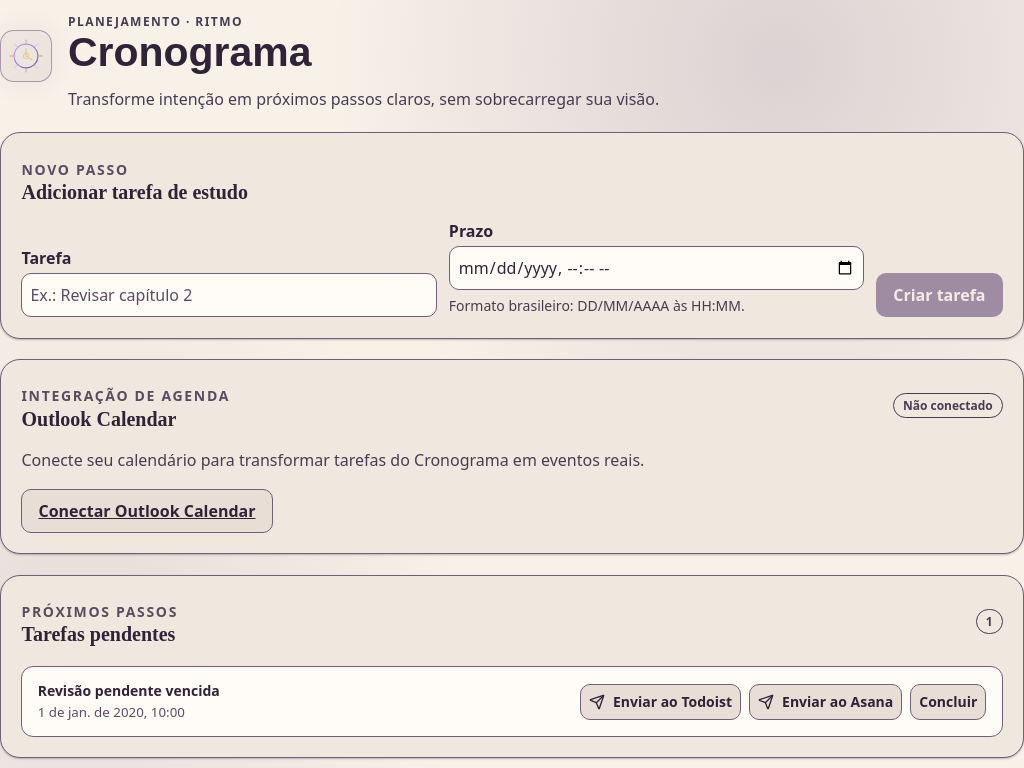
Test: StudyTaskBoard › keeps an overdue task visible and allows completing it
Expected: the text "Revisão pendente vencida" is shown, [38,681,220,700]
Click the button "Concluir". click: click(948, 702)
box: [910,684,986,720]
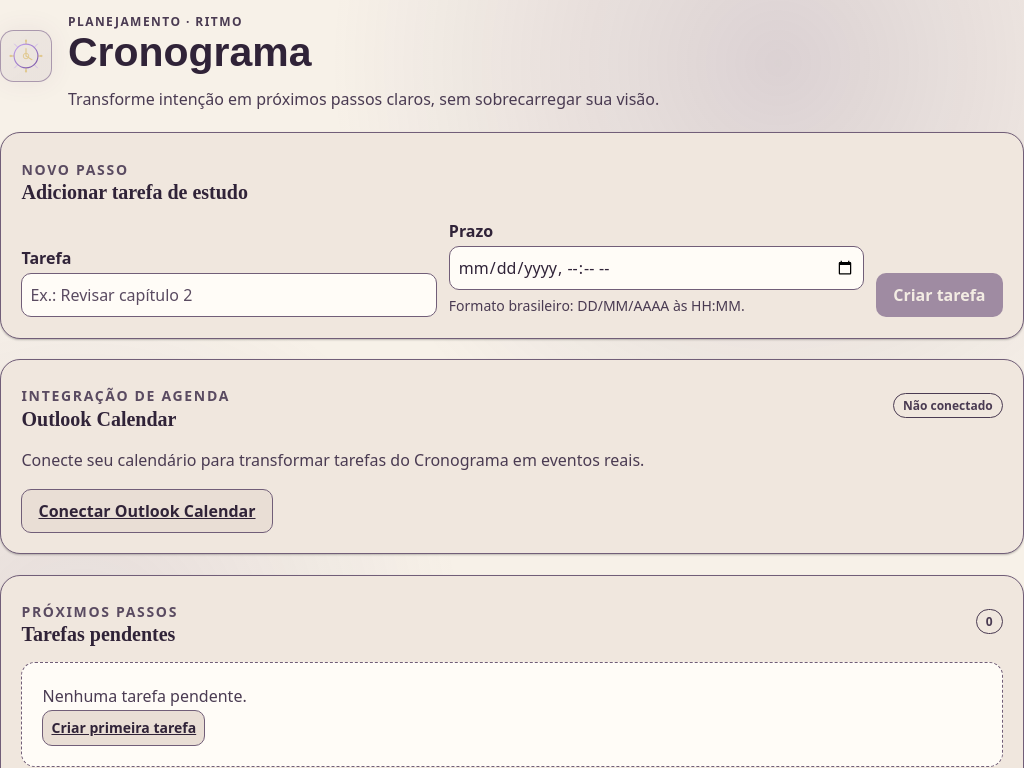
Expected: the text "Revisão pendente vencida" is gone
